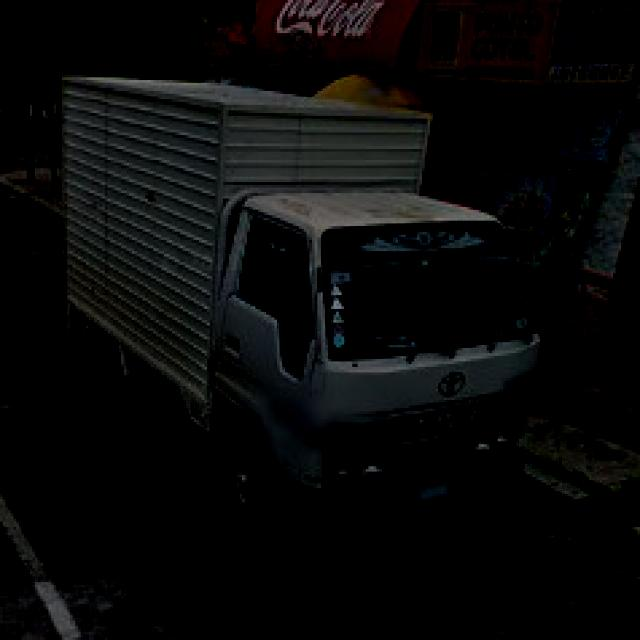car: (60, 65, 539, 524)
